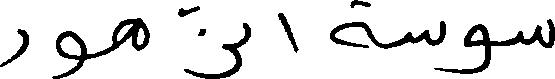X: (180, 1, 239, 78), (331, 0, 373, 52), (452, 19, 488, 78), (408, 16, 443, 75), (56, 26, 84, 78), (114, 13, 148, 55), (520, 14, 554, 52), (0, 24, 26, 71), (280, 8, 295, 56), (244, 18, 248, 48)
